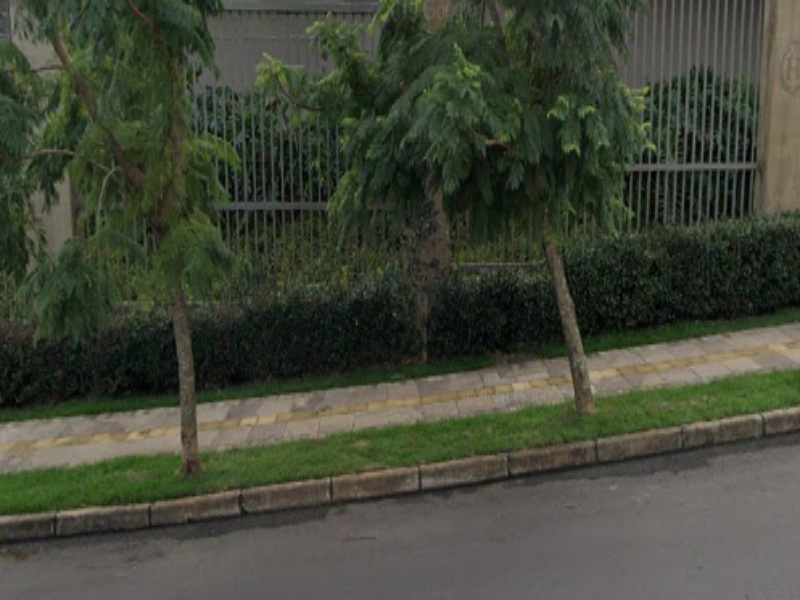v51: (1, 344, 792, 561)
